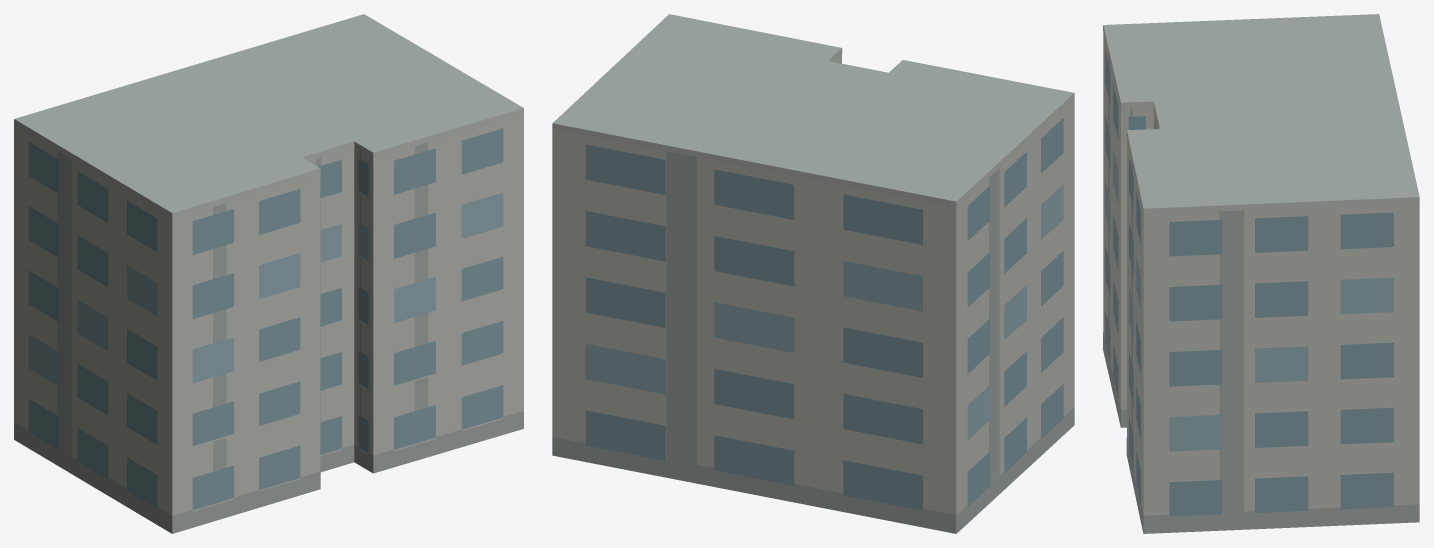
Rendered from survey-upis-32638645.glb.
3 renders of one model, left to right at view 1: azimuth 30°, elevation 25°; view 2: azimuth 150°, elevation 25°; view 3: azimuth 270°, elevation 25°, orthographic. The views are drawn at different scales.
Parts seen in each view (by area): view 1: survey-upis-32638645.tmp; view 2: survey-upis-32638645.tmp; view 3: survey-upis-32638645.tmp.
Boxes of the visible parts, x1,y1,x2,y2 form: survey-upis-32638645.tmp: (14,14,523,533); survey-upis-32638645.tmp: (552,14,1074,533); survey-upis-32638645.tmp: (1103,14,1419,533).
Size of the model in its own units: 16.96 by 13.2 by 11.65.
